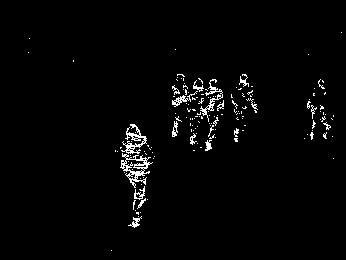person: (118, 122, 152, 229), (232, 72, 259, 142), (203, 79, 222, 154), (308, 76, 327, 141), (188, 76, 204, 147), (171, 73, 188, 139)
